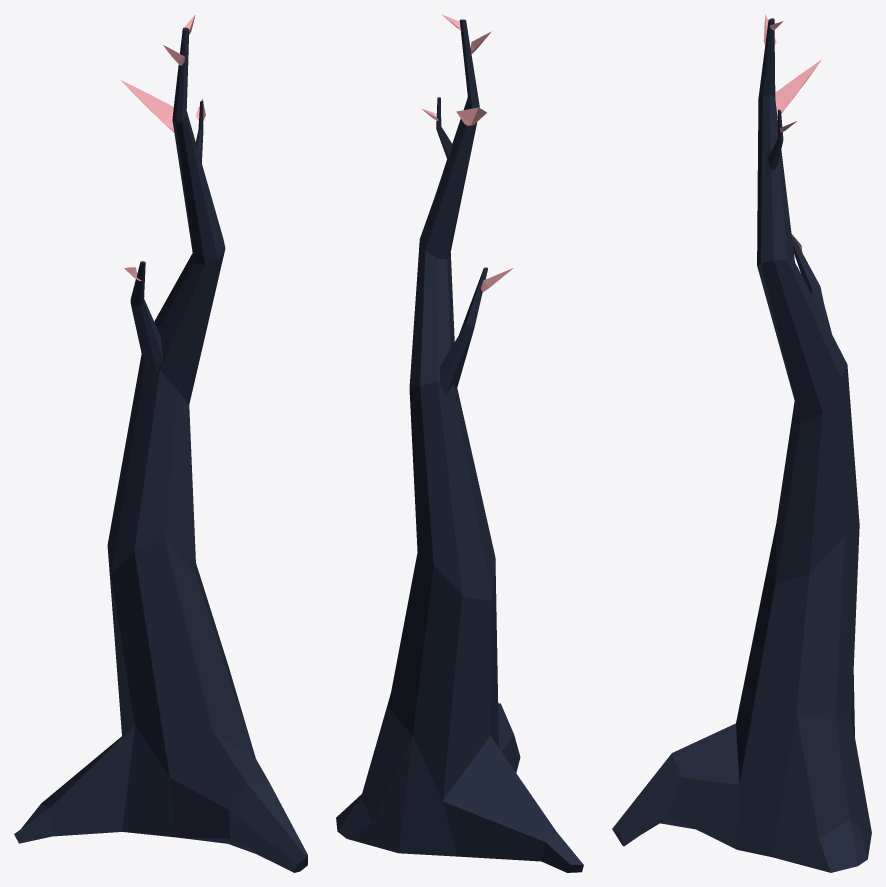
Rendered from scifi-scifi-tree-willow-small.glb.
The picture shows the model from 3 angles, left to right: view 1: azimuth 30°, elevation 25°; view 2: azimuth 150°, elevation 25°; view 3: azimuth 270°, elevation 25°; orthographic projection.
Parts seen in each view (by area): view 1: scifi-tree-willow-small; view 2: scifi-tree-willow-small; view 3: scifi-tree-willow-small.
Boxes of the visible parts, x1=… form: scifi-tree-willow-small: x1=14, y1=14, x2=307, y2=872; scifi-tree-willow-small: x1=336, y1=14, x2=583, y2=872; scifi-tree-willow-small: x1=612, y1=14, x2=871, y2=872.
Size of the model in its own units: 1.16 by 3.68 by 1.07.
